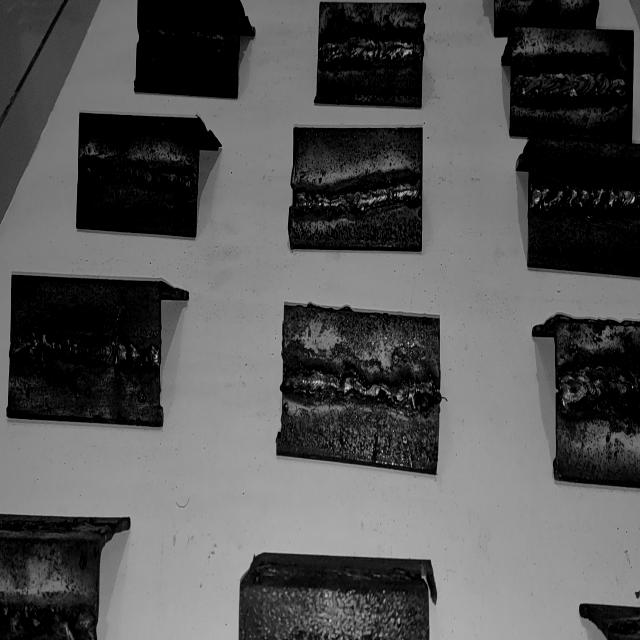Bad Weld: (11, 336, 158, 372), (561, 369, 640, 407)
Defect: (13, 337, 150, 371), (0, 605, 93, 640), (594, 365, 631, 414)
Good Weld: (284, 368, 440, 412), (296, 176, 420, 213), (512, 71, 630, 102), (319, 36, 422, 65), (80, 167, 194, 193), (531, 186, 640, 213), (138, 28, 237, 51)
